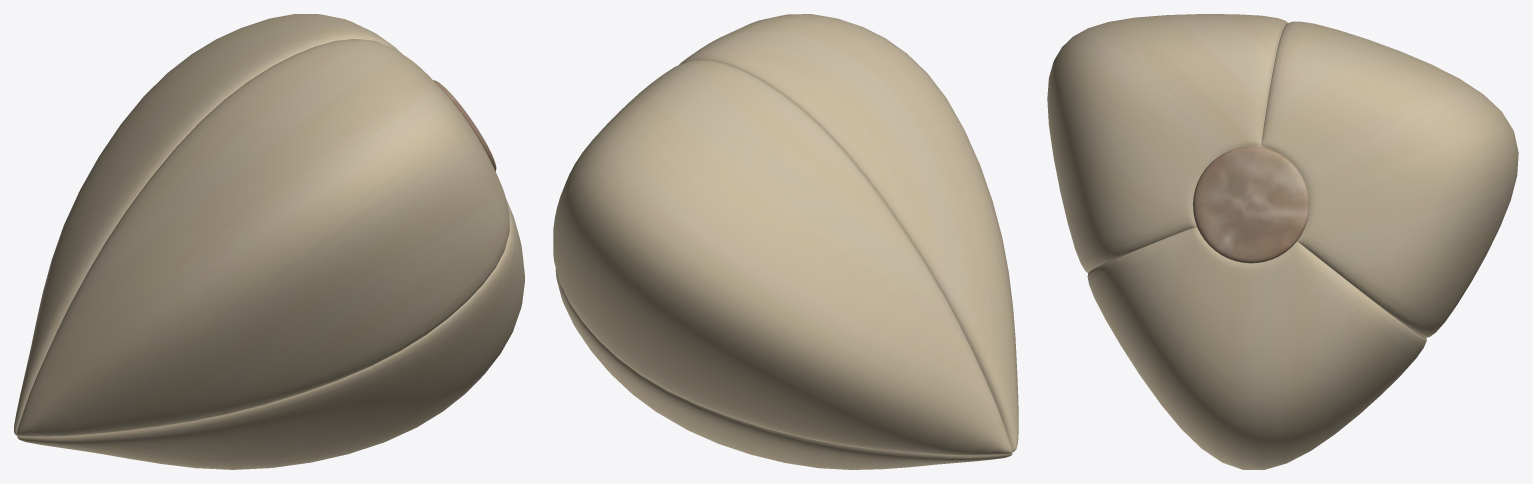
File: GrainBuckwheat014.obj
3 renders of one model, left to right at view 1: azimuth 30°, elevation 25°; view 2: azimuth 150°, elevation 25°; view 3: azimuth 270°, elevation 25°, orthographic. The views are drawn at different scales.
Visible parts, largest first — view 1: GrainBuckwheat014; view 2: GrainBuckwheat014; view 3: GrainBuckwheat014.
Part boxes in pixels (x1=…): GrainBuckwheat014: x1=14, y1=14, x2=524, y2=469; GrainBuckwheat014: x1=553, y1=14, x2=1018, y2=469; GrainBuckwheat014: x1=1047, y1=14, x2=1518, y2=469.
Size of the model in its own units: 0.0314 by 0.0259 by 0.0262.
Materials: 1 (1 with a texture image).
